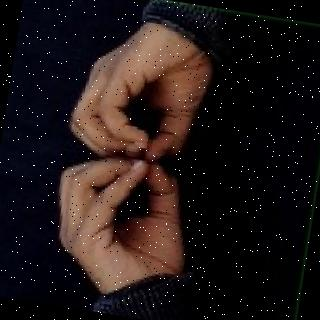B: (37, 12, 236, 304)
